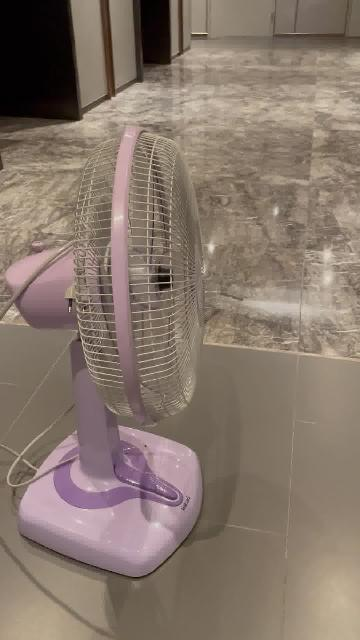Fan: (5, 128, 203, 580)
